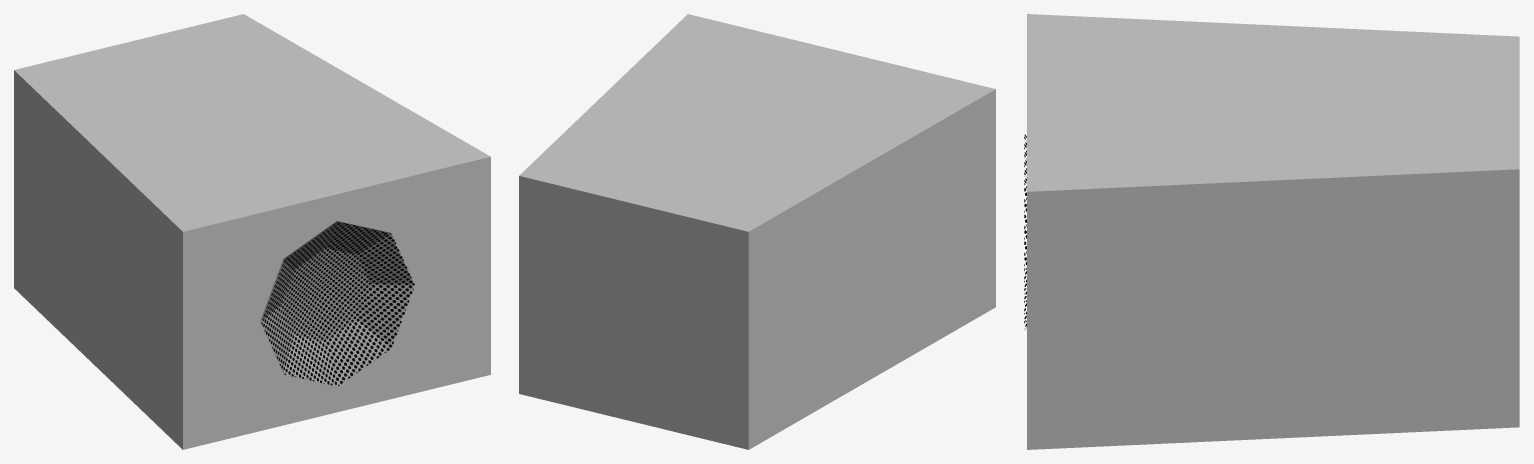
Rendered from Itr_Obj_Speaker3_Top_01.FBX.
3 renders of one model, left to right at view 1: azimuth 30°, elevation 25°; view 2: azimuth 150°, elevation 25°; view 3: azimuth 270°, elevation 25°, orthographic. The views are drawn at different scales.
Parts seen in each view (by area): view 1: Itr_Obj_Speaker3_Top_01; view 2: Itr_Obj_Speaker3_Top_01; view 3: Itr_Obj_Speaker3_Top_01.
Part boxes in pixels (x1,y1,x2,y2): Itr_Obj_Speaker3_Top_01: [14, 14, 490, 449]; Itr_Obj_Speaker3_Top_01: [519, 14, 995, 449]; Itr_Obj_Speaker3_Top_01: [1024, 14, 1519, 449].
Bounding box in the file's own units: 9.88 × 6.69 × 11.62.
